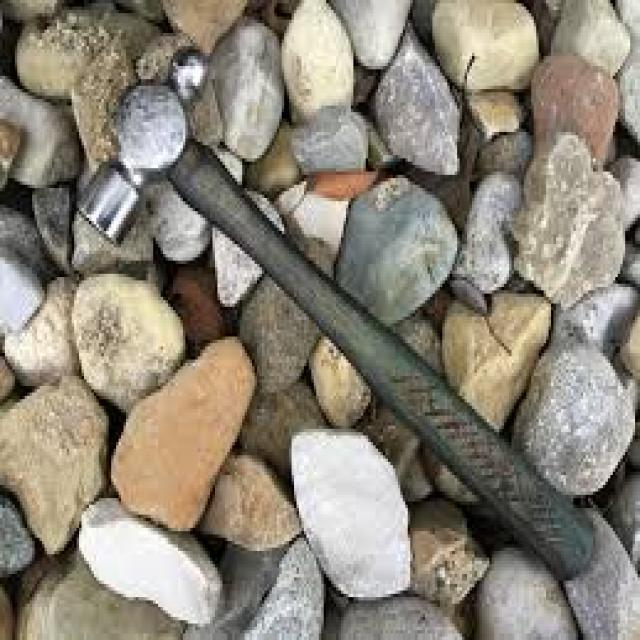hammer: (66, 40, 598, 588)
